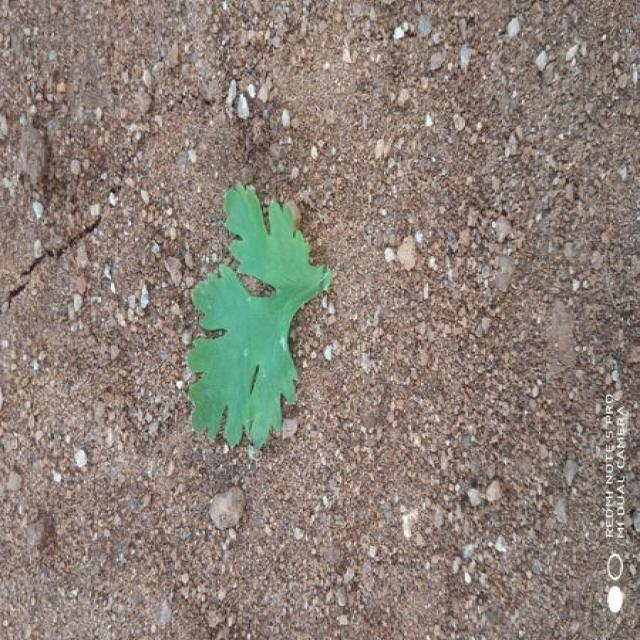coriender: (188, 185, 332, 448)
